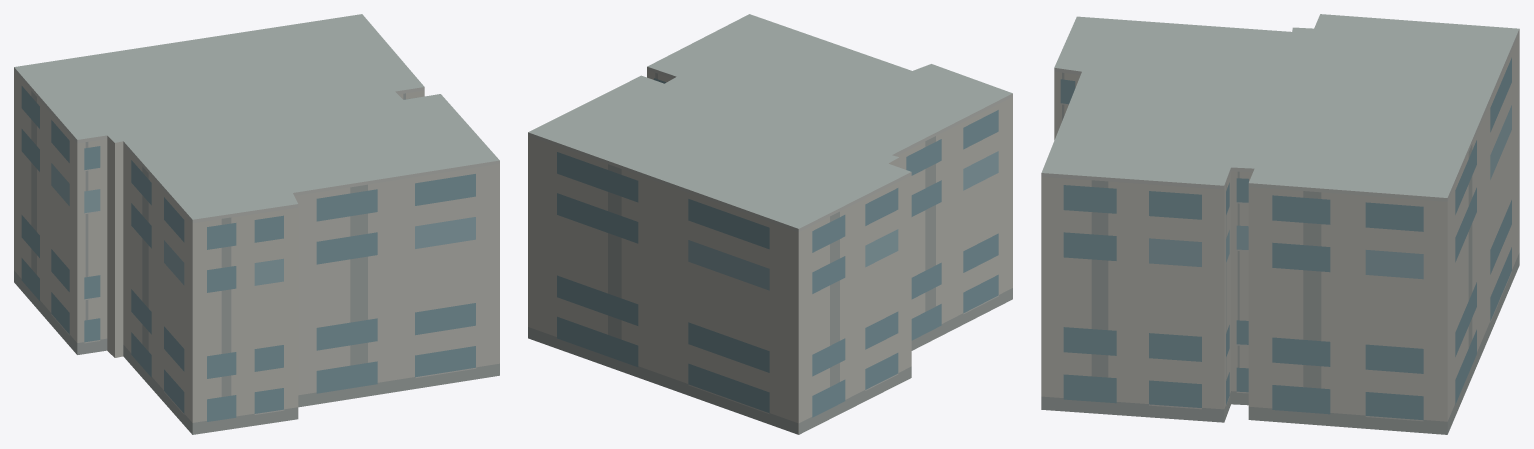
File: survey-upis-32697092.glb
The picture shows the model from 3 angles, left to right: view 1: azimuth 30°, elevation 25°; view 2: azimuth 150°, elevation 25°; view 3: azimuth 270°, elevation 25°; orthographic projection. The views are drawn at different scales.
Parts seen in each view (by area): view 1: survey-upis-32697092.tmp; view 2: survey-upis-32697092.tmp; view 3: survey-upis-32697092.tmp.
Part boxes in pixels (left/top/right/bottom): survey-upis-32697092.tmp: left=14, top=14, right=499, bottom=434; survey-upis-32697092.tmp: left=528, top=14, right=1012, bottom=434; survey-upis-32697092.tmp: left=1041, top=14, right=1519, bottom=434.
Size of the model in its own units: 25.43 by 15.25 by 27.91.
